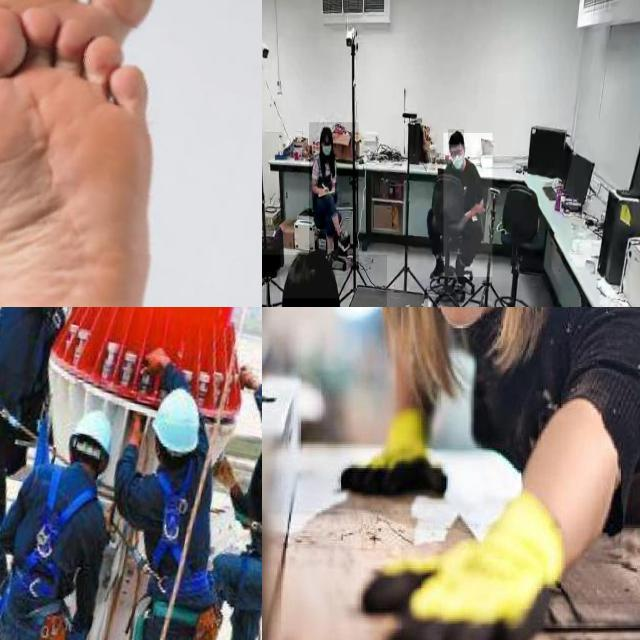Barefoots: (0, 8, 149, 307), (0, 0, 156, 233)
Harness: (11, 460, 98, 602), (152, 462, 194, 570)
face_mask: (320, 137, 336, 166), (452, 147, 466, 169)
hand_noglove: (319, 184, 329, 196)
head_nohelmet: (281, 249, 339, 299), (448, 130, 464, 146), (319, 125, 333, 137)
person: (327, 307, 640, 640), (309, 122, 359, 270), (443, 133, 493, 278)
shoes: (428, 254, 448, 281), (452, 254, 466, 283), (336, 230, 351, 254)
